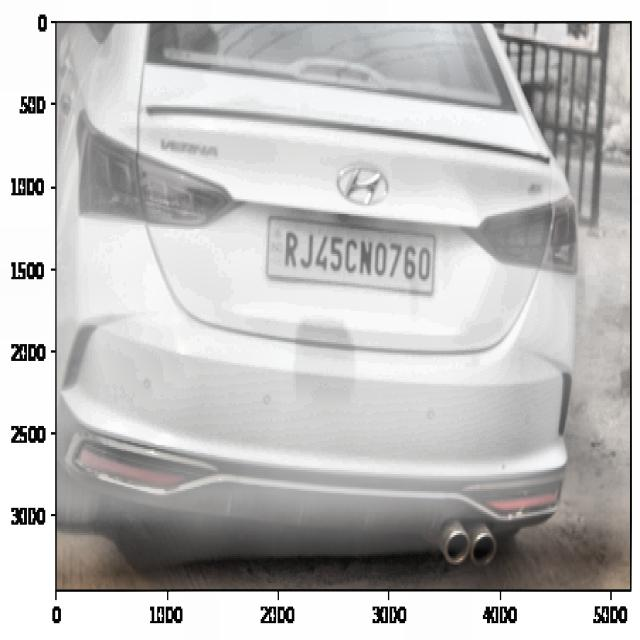license_plate: (280, 220, 436, 285)
